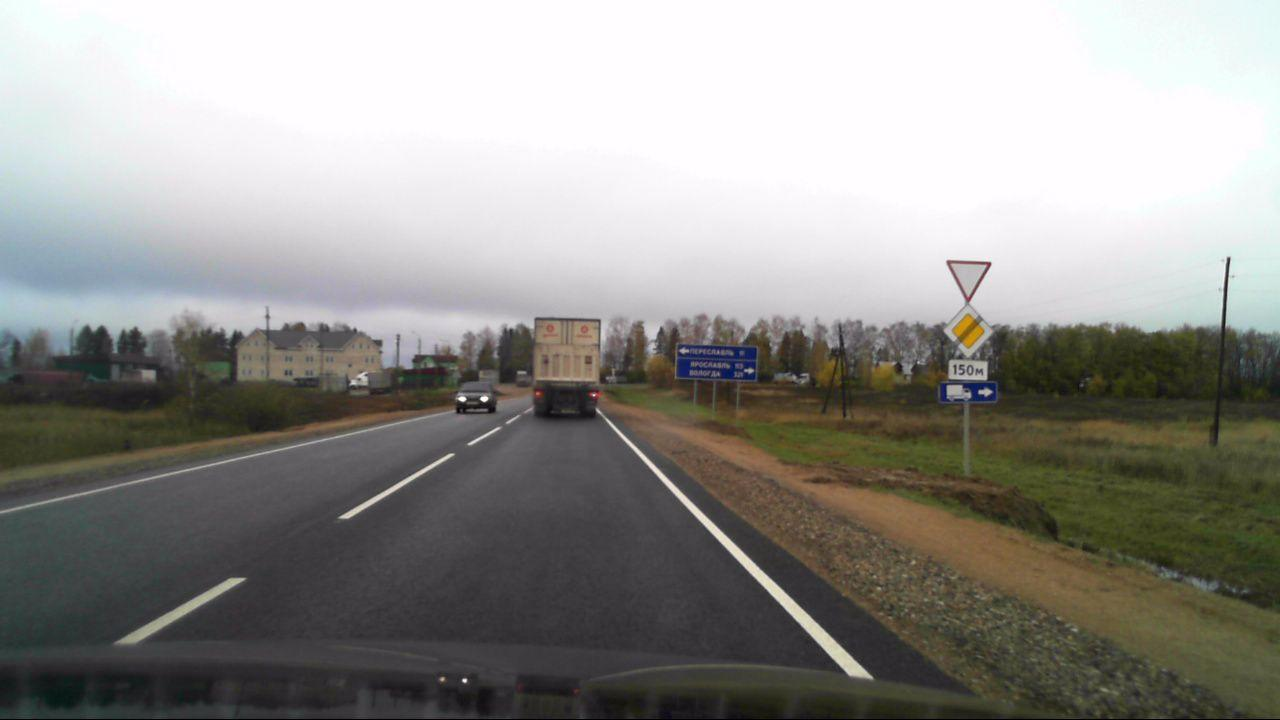2_2: (942, 302, 995, 353)
2_4: (943, 256, 994, 302)
6_15_2: (939, 382, 997, 403)
6_9_1: (675, 342, 758, 381)
8_1_1: (948, 357, 992, 380)
